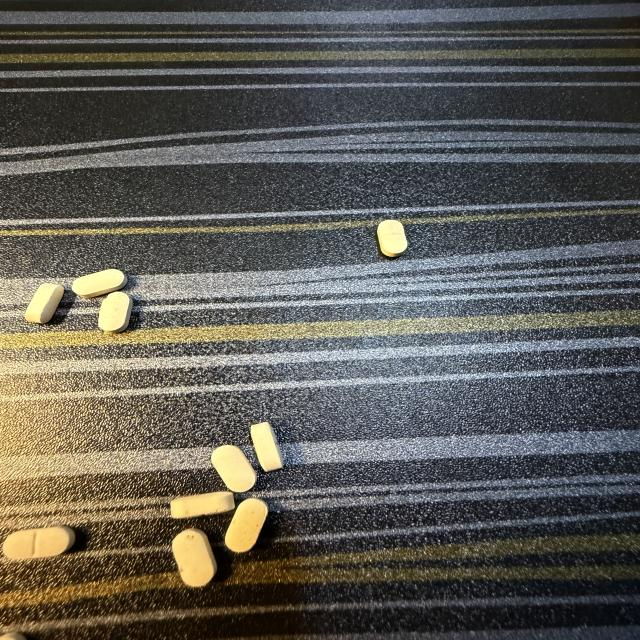pill: (172, 529, 216, 586), (3, 527, 75, 559), (225, 499, 268, 552), (212, 446, 256, 492), (171, 492, 234, 518), (250, 422, 283, 471), (25, 283, 64, 323), (72, 269, 127, 297), (99, 292, 132, 333), (377, 220, 407, 257), (0, 633, 26, 639)
